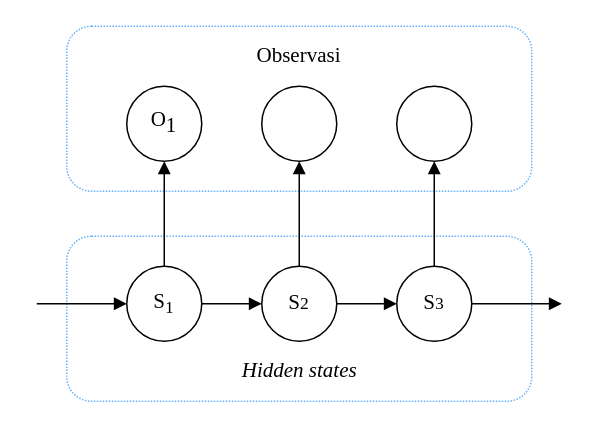
The diagram is 600 pixels wide and 428 high, and some of its shapes have lost their labels. Each missing label, with the centre of its shape:
"O 2" belongs at pixel 298 123.
"O 3" belongs at pixel 433 123.
